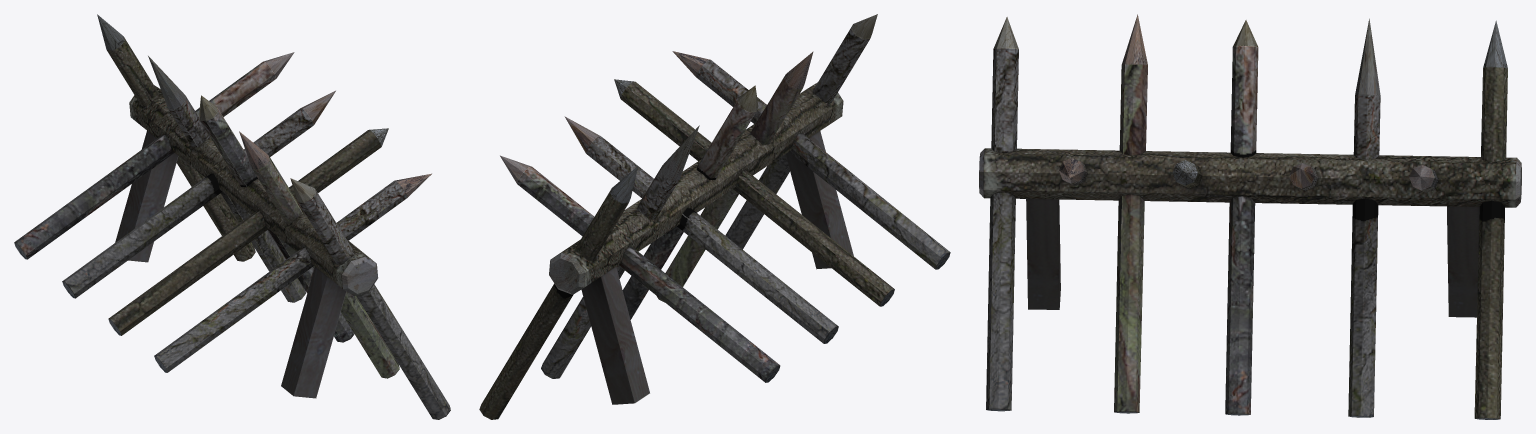
The model's file is SM_Barricade.fbx.
The picture shows the model from 3 angles, left to right: view 1: azimuth 30°, elevation 25°; view 2: azimuth 150°, elevation 25°; view 3: azimuth 270°, elevation 25°; orthographic projection. The views are drawn at different scales.
Parts seen in each view (by area): view 1: SM_Barricade__17_; view 2: SM_Barricade__17_; view 3: SM_Barricade__17_.
Boxes of the visible parts, x1=… form: SM_Barricade__17_: x1=14, y1=14, x2=450, y2=419; SM_Barricade__17_: x1=479, y1=14, x2=950, y2=419; SM_Barricade__17_: x1=979, y1=14, x2=1521, y2=419.
Size of the model in its own units: 279 by 262 by 400.
